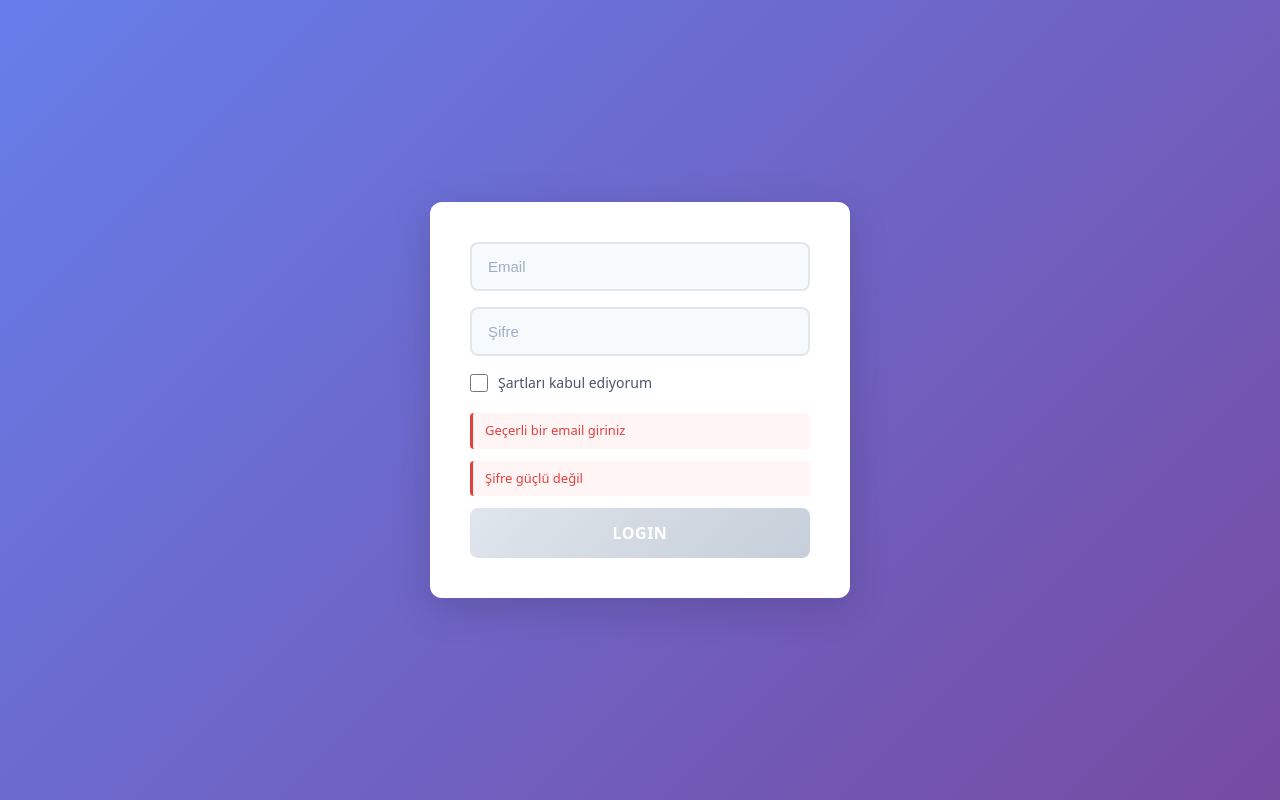
Login Form Testleri › Email yanlış → 1 hata mesajı ve buton disabled
The image size is (1280, 800).
Type "yanlisemail" into the field with test id "email".
click(640, 267); type("yanlisemail")  # box x1=470 y1=242 x2=810 y2=291
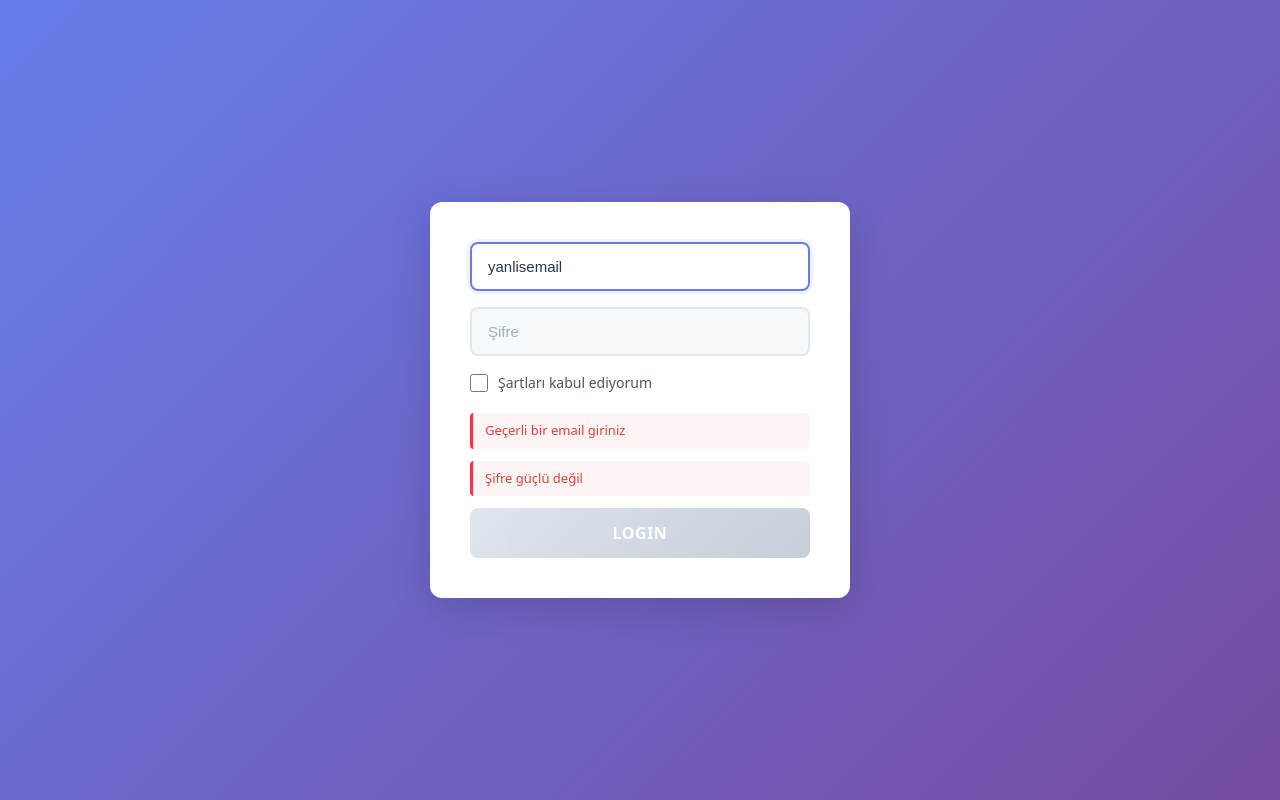
Type "Strong123" into the password field with test id "password".
click(640, 332); type("Strong123")  # box x1=470 y1=307 x2=810 y2=356
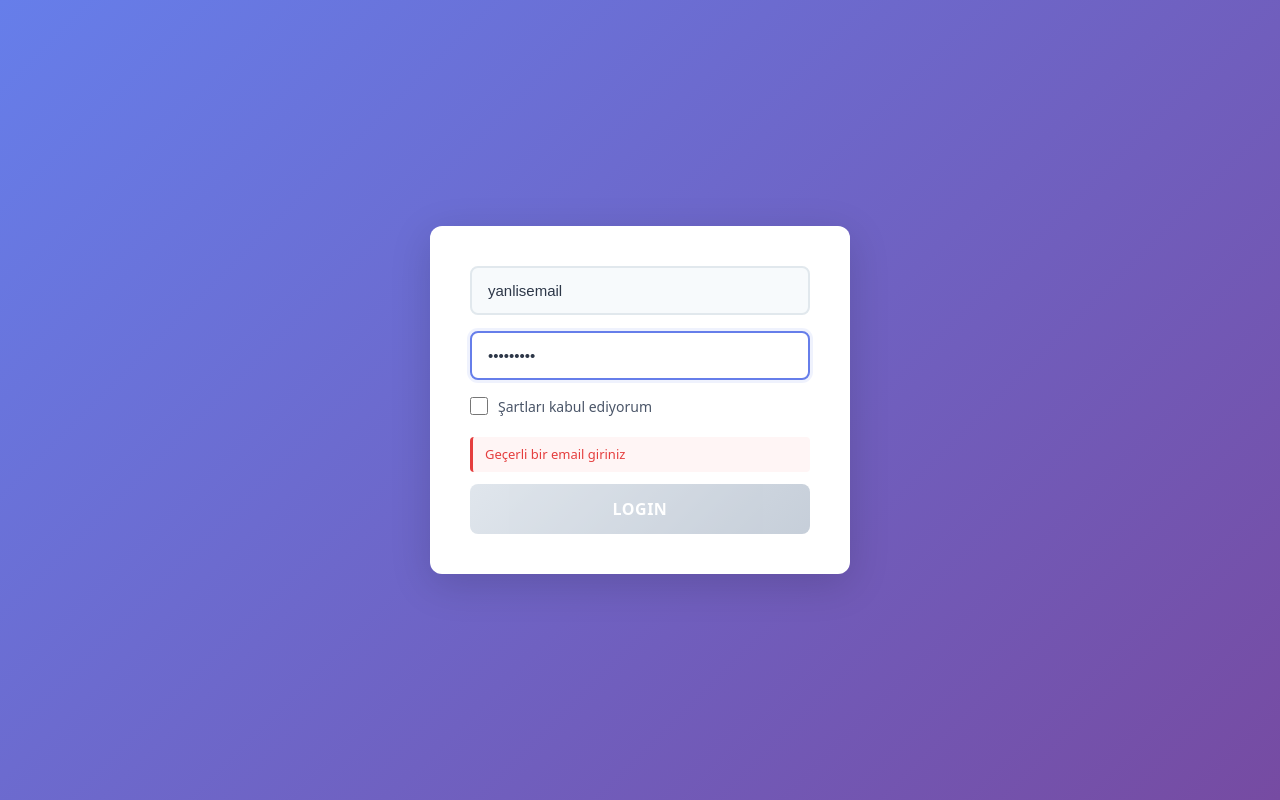
Expected: the text "Geçerli bir email giriniz" is shown, x1=470 y1=437 x2=810 y2=472
Expected: the number of elements with test id "error" is 1, x1=470 y1=437 x2=810 y2=473
